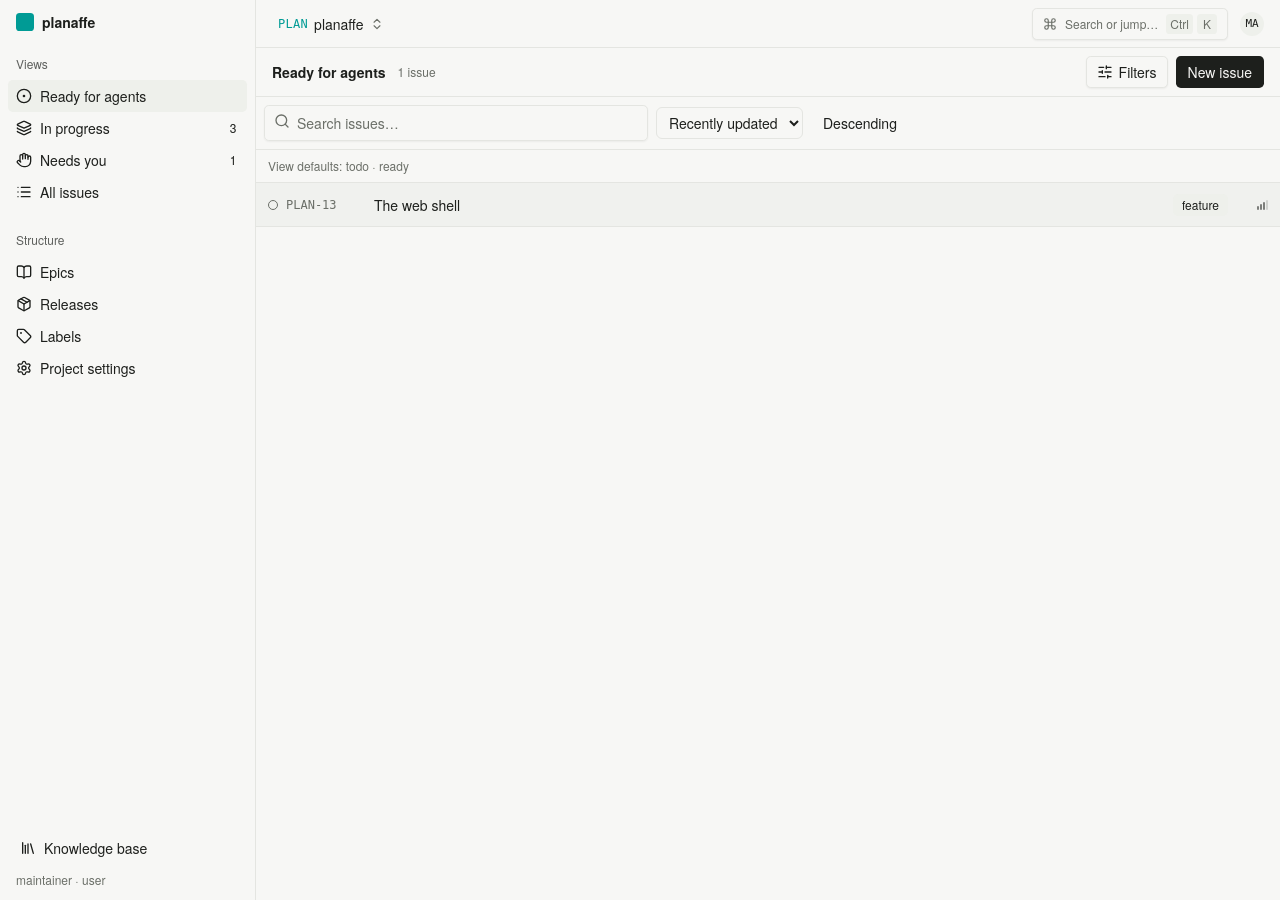
Test: the shell (ADR 0006) › offers the three things that can be created from the palette
Expected: the text "The web shell" is shown, [374,194,460,214]
Type keys "{Meta>}k{/Meta}"
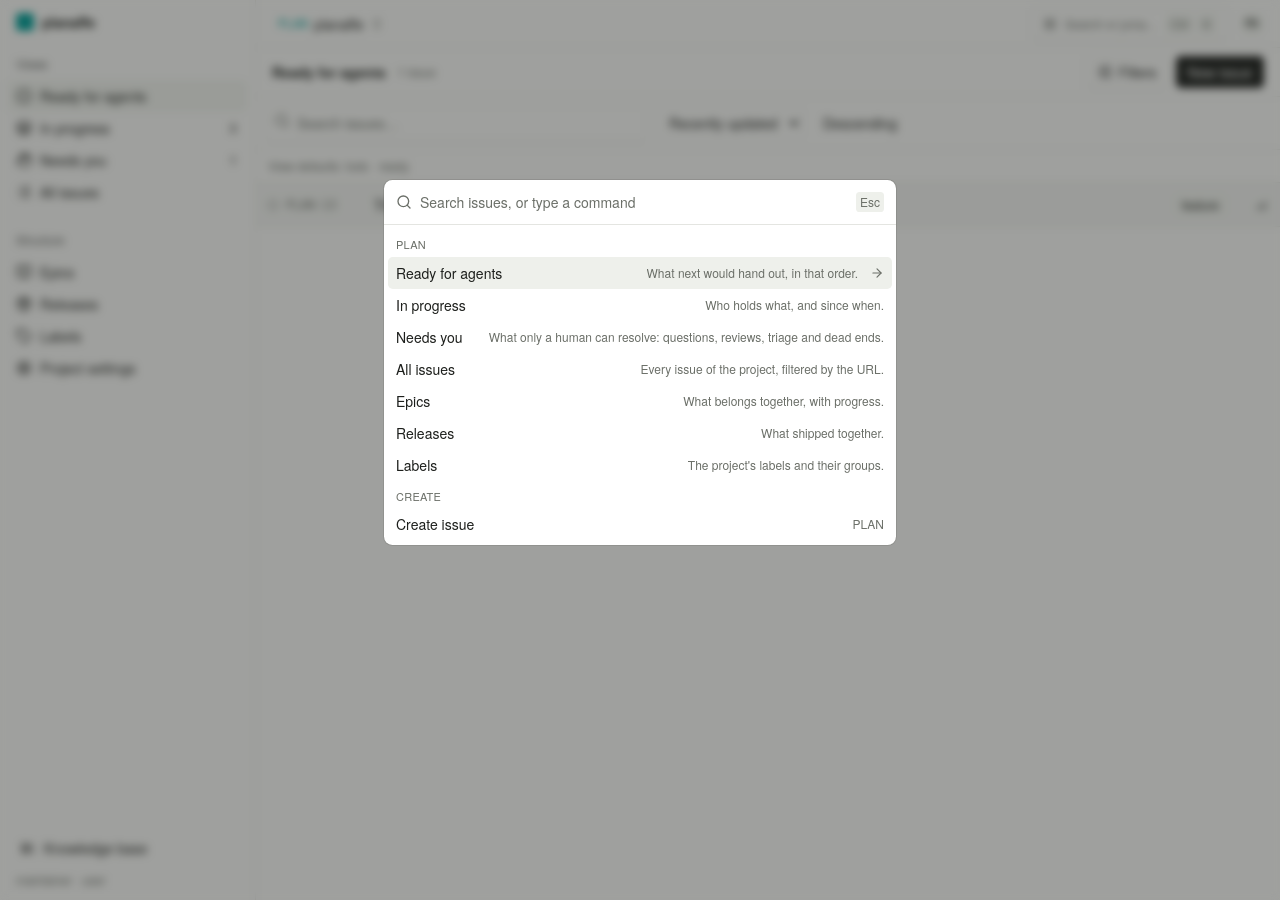
In the dropdown labelled "Search issues, or type a command": (634, 202) [420,180,848,224], type "create"
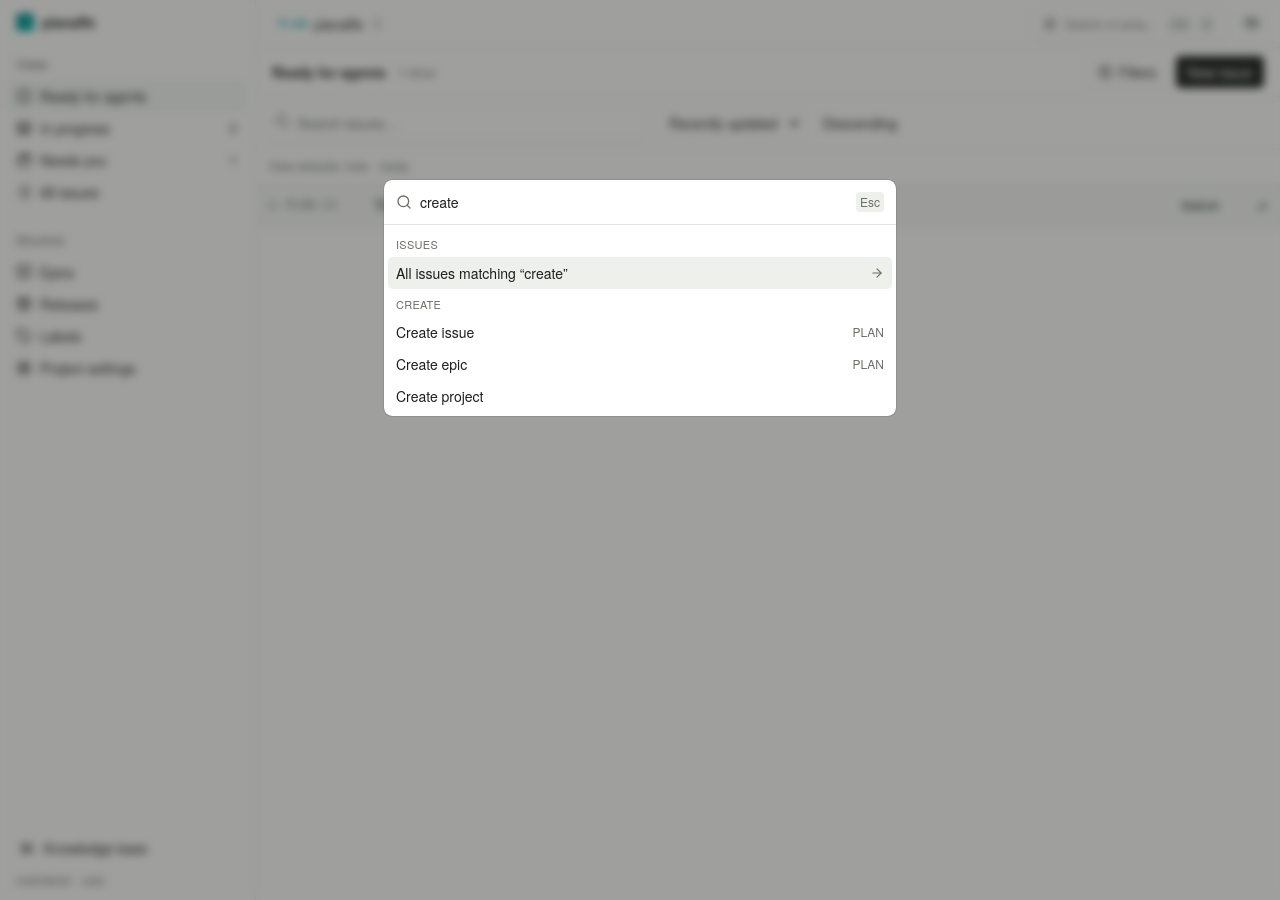
Expected: the option "Create issue PLAN" is shown, [388,316,892,348]
Expected: the option "Create epic PLAN" is shown
Expected: the option "Create project" is shown, [396,386,484,406]
Click the option "Create epic PLAN": (432, 364) [388,348,892,380]
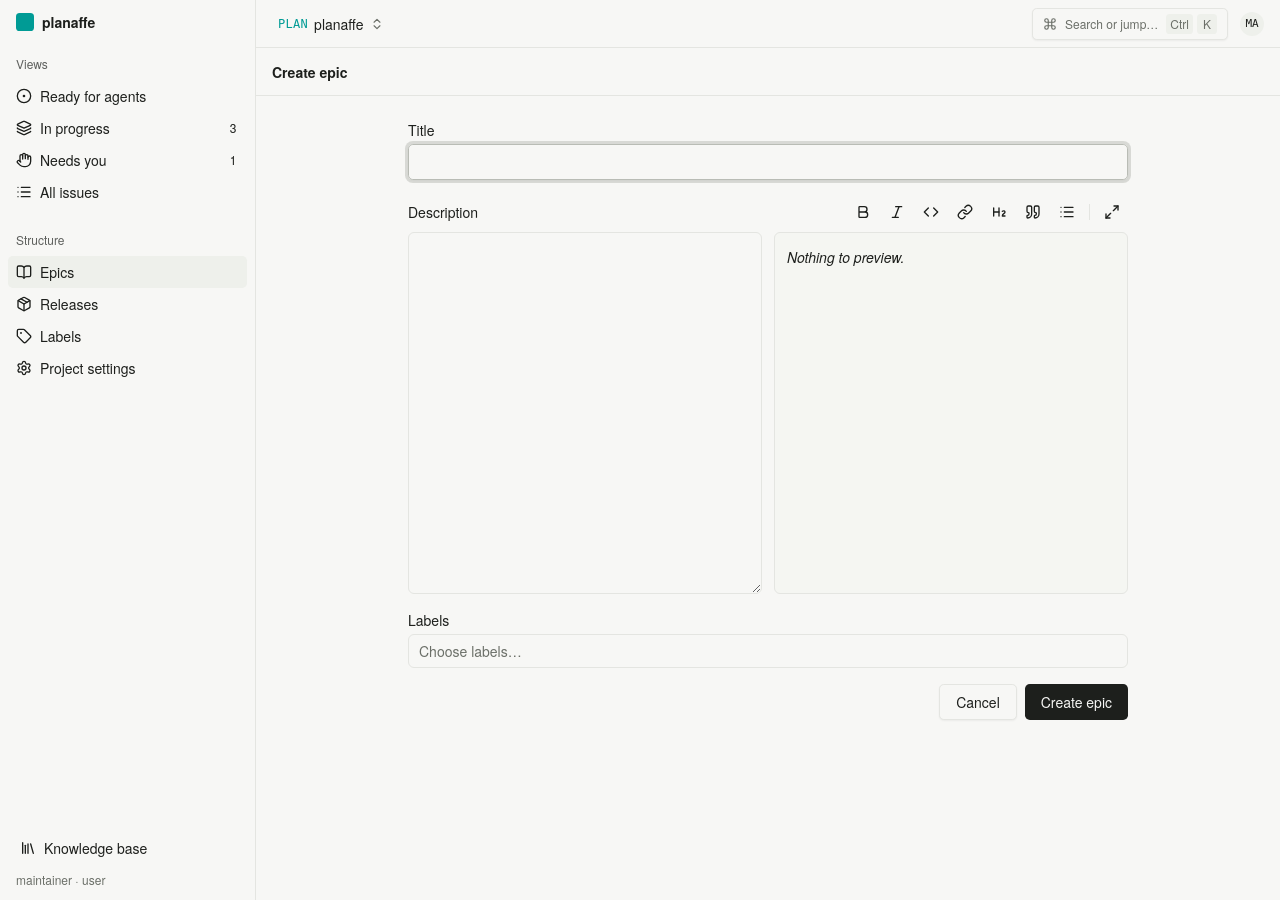
Expected: the heading "Create epic" is shown, [272,62,348,82]
